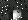person: (14, 11, 21, 20)
